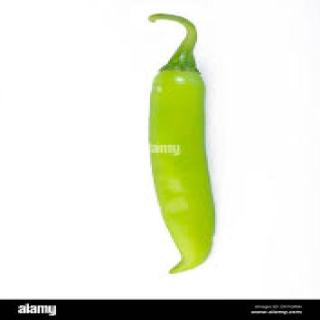Cabai Hijau: (146, 22, 220, 282)
